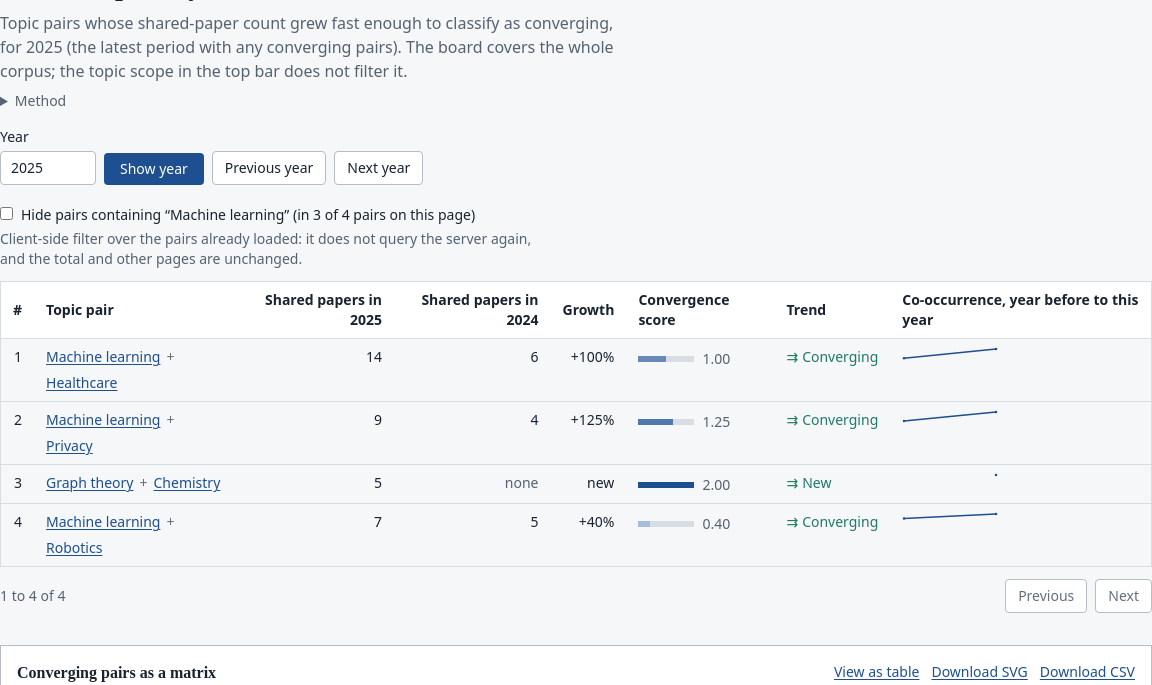
ConnectionsBoard › Phase 6c › drops the hidden topic from the matrix as well
This screenshot has width=1152, height=685.
Click the checkbox labelled "Hide pairs containing". click: (6, 214)
box: [0,207,13,220]
(page scrolled)
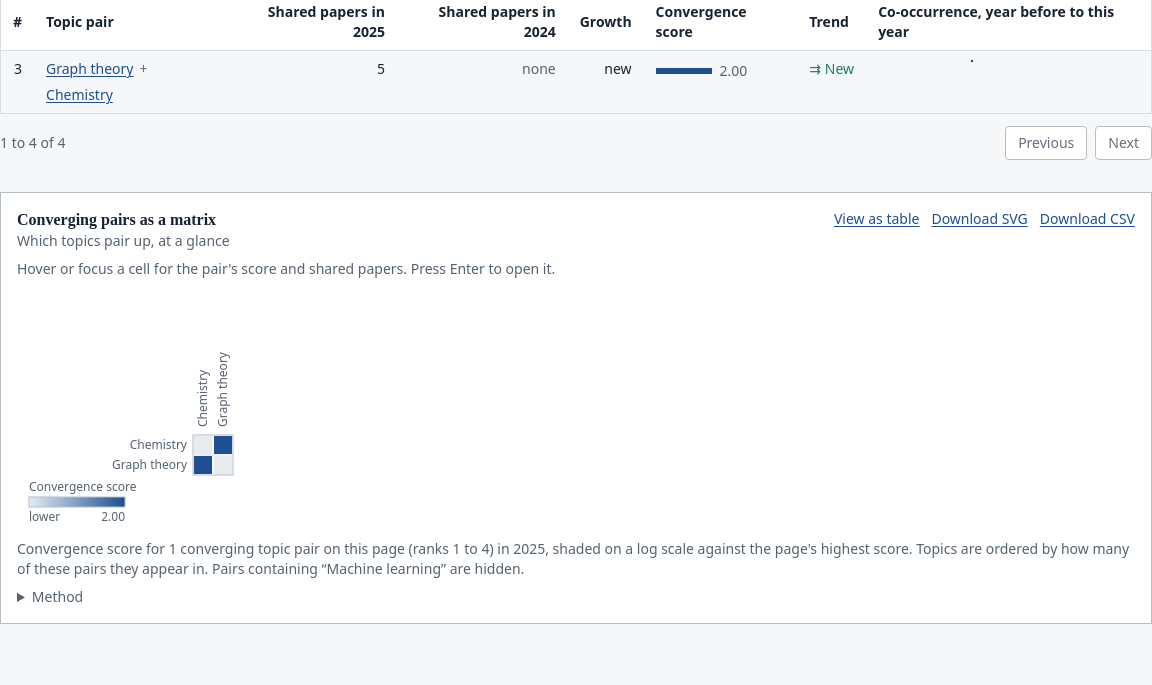
Now the text "pairs containing .Machine learning. are hidden" is shown, box [17,539,1129,578]
